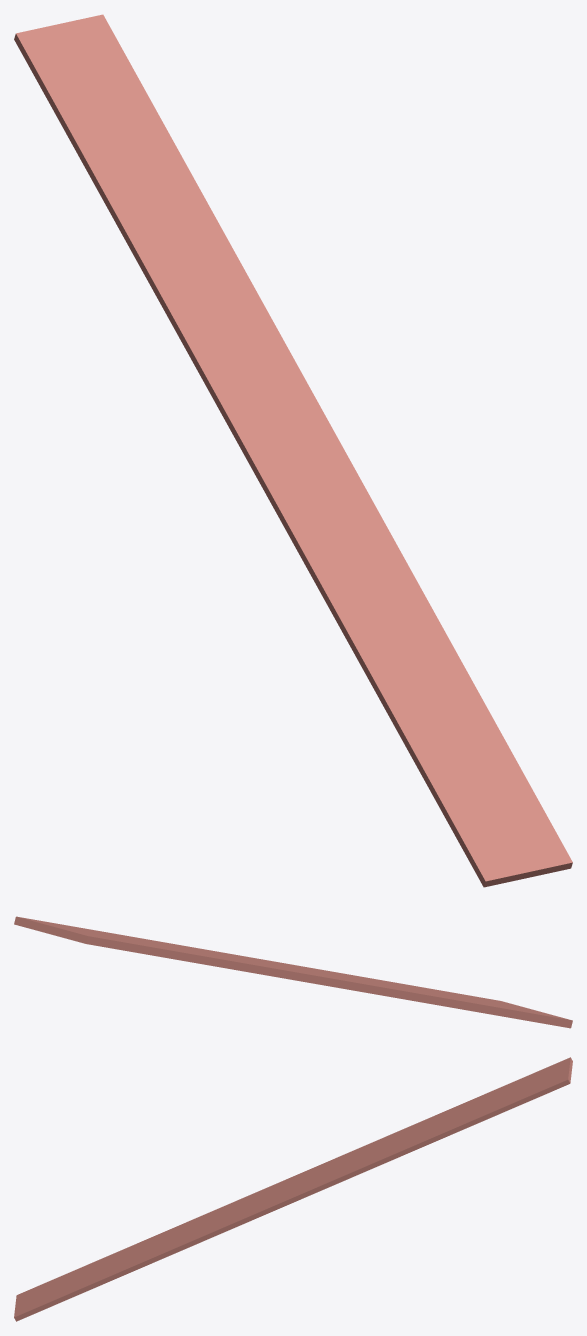
File: Plank.fbx
The picture shows the model from 3 angles, top to bottom: view 1: azimuth 30°, elevation 25°; view 2: azimuth 150°, elevation 25°; view 3: azimuth 270°, elevation 25°; orthographic projection. The views are drawn at different scales.
Visible parts, largest first — view 1: Plank1; view 2: Plank1; view 3: Plank1.
Boxes of the visible parts, x1,y1,x2,y2 form: Plank1: (14, 14, 572, 887); Plank1: (14, 916, 572, 1028); Plank1: (14, 1057, 572, 1321).
Bounding box in the file's own units: 33007 × 4728 × 16520.
